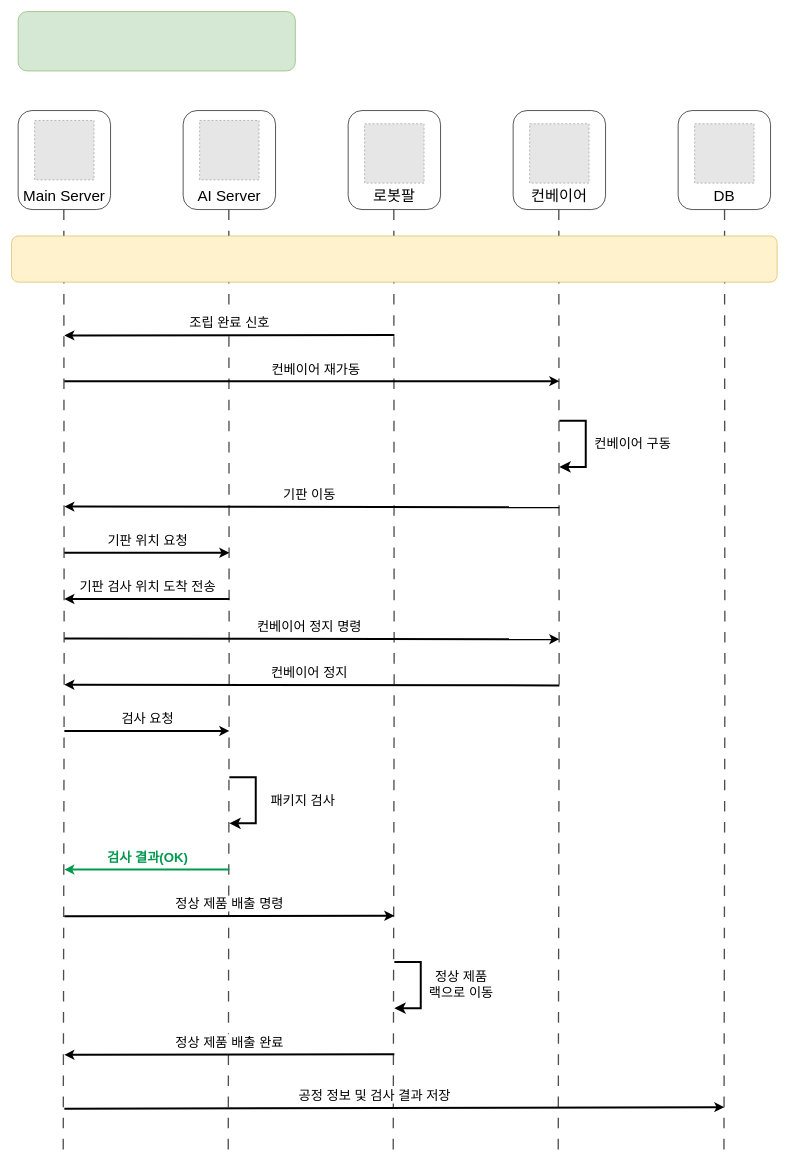
Some shapes in this 789 by 1166 pixel diagram are drawn without their labels. Grey dashed boxes stand in for pictures. The box of each missing label's shape, as (x1, y1, x2, y2) in pixels:
Scenario 1. 정상 작업: (17, 11, 295, 71)
로봇 조립 완료: (11, 235, 777, 282)
